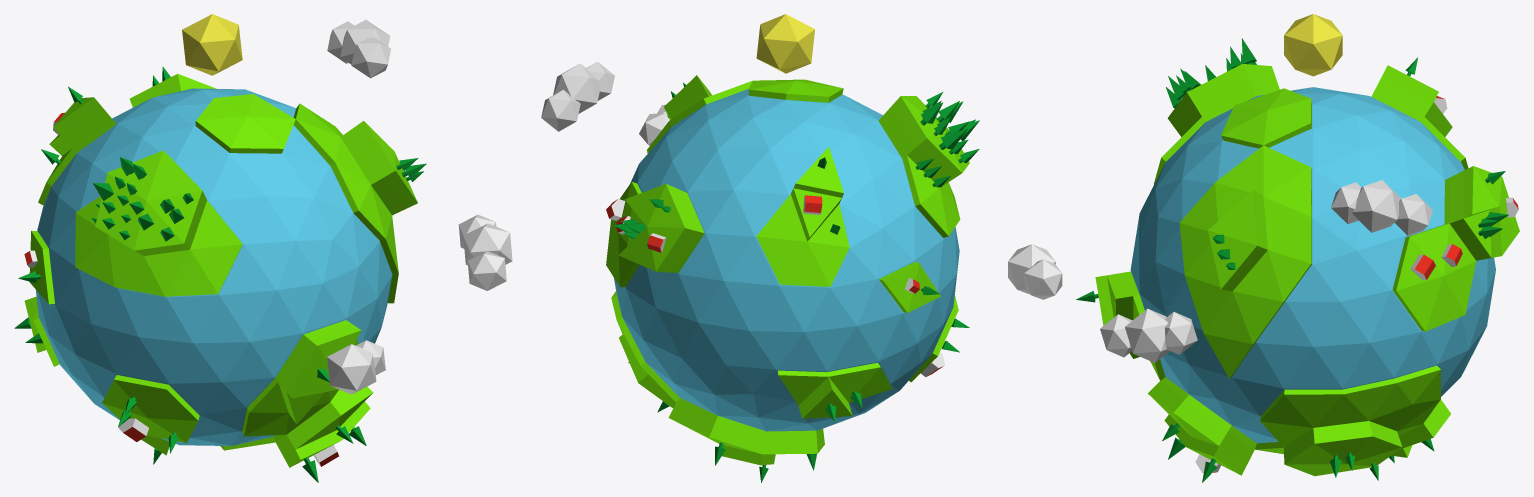
File: main_planet.glb
3 renders of one model, left to right at view 1: azimuth 30°, elevation 25°; view 2: azimuth 150°, elevation 25°; view 3: azimuth 270°, elevation 25°, orthographic. The views are drawn at different scales.
Visible parts, largest first — view 1: Icosphere, Sun; view 2: Icosphere, Sun; view 3: Icosphere, Sun.
Boxes of the visible parts, bbox=[...] form: Icosphere: bbox=[14, 20, 512, 482]; Sun: bbox=[182, 14, 242, 75]; Icosphere: bbox=[541, 61, 979, 482]; Sun: bbox=[756, 14, 814, 73]; Icosphere: bbox=[1008, 38, 1519, 482]; Sun: bbox=[1284, 14, 1342, 76].
Bounding box in the file's own units: 2.68 × 2.94 × 2.99.
